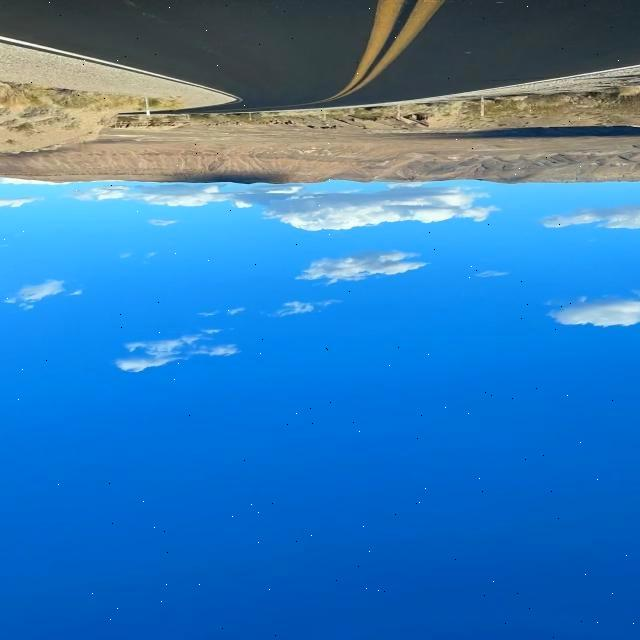lane: (324, 1, 445, 101)
road: (1, 1, 640, 112)
